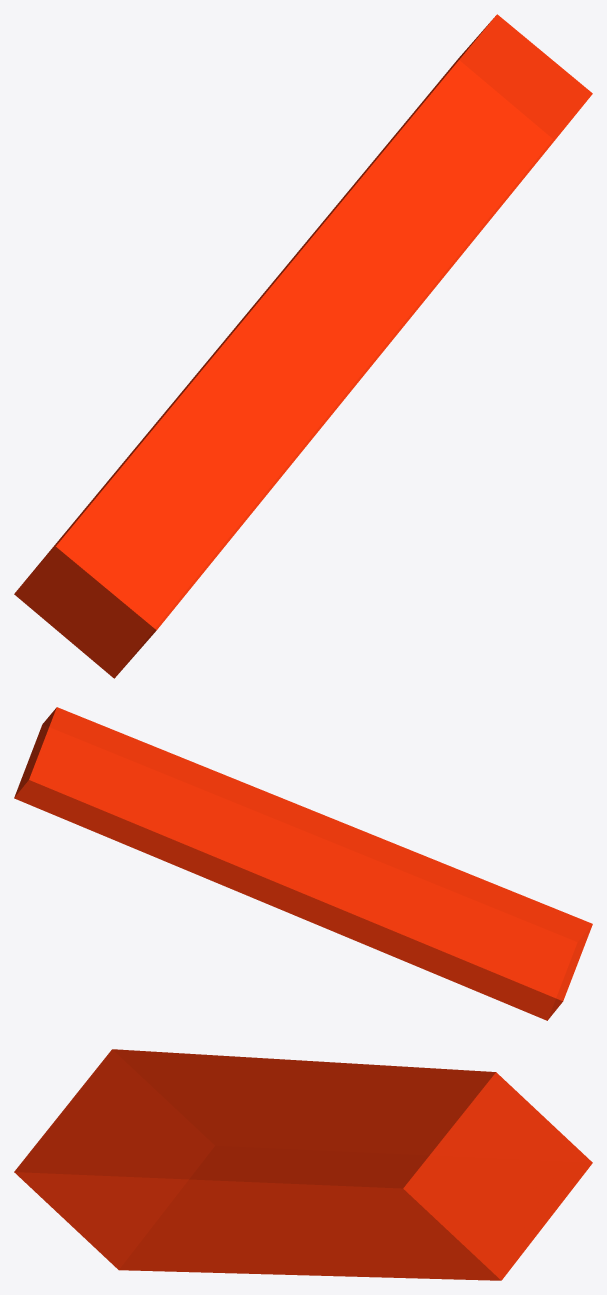
Rendered from Event_421115418_EBrechit_17.fbx.
3 views of the same model, one above another, from view 1: azimuth 30°, elevation 25°; view 2: azimuth 150°, elevation 25°; view 3: azimuth 270°, elevation 25° (orthographic). The views are drawn at different scales.
Parts seen in each view (by area): view 1: Model; view 2: Model; view 3: Model.
Part boxes in pixels (x1,y1,x2,y2): Model: [14, 14, 592, 678]; Model: [14, 707, 592, 1020]; Model: [14, 1049, 592, 1280].
Bounding box in the file's own units: 0.3707 × 0.2282 × 0.23.
